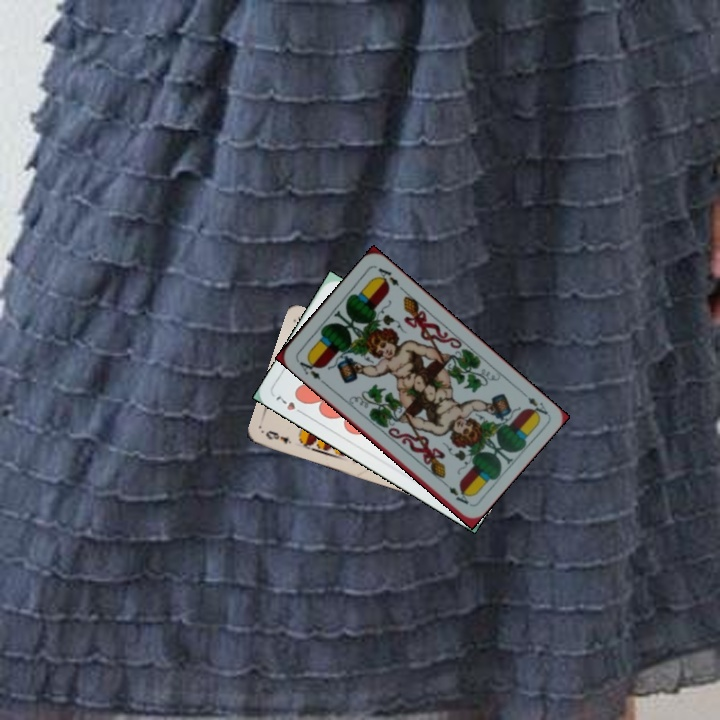E9: (261, 427, 294, 447)
EA: (516, 386, 550, 421), (293, 354, 327, 386)
H7: (272, 392, 308, 418)
